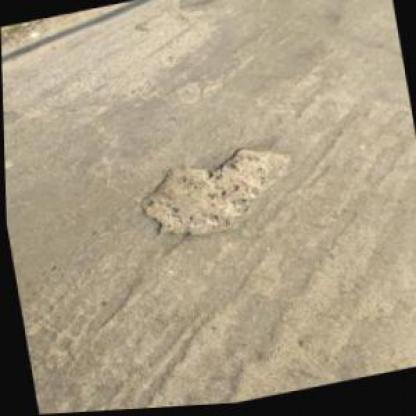pothole: (132, 140, 298, 248)
